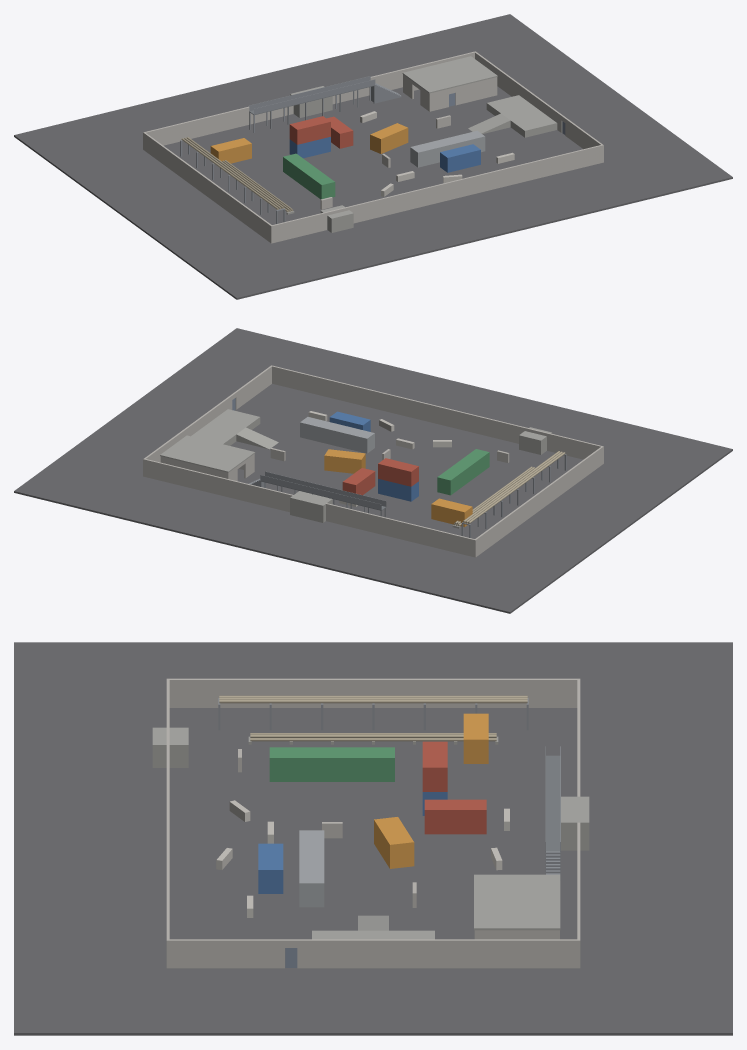
File: yard.glb
3 renders of one model, top to bottom at view 1: azimuth 30°, elevation 25°; view 2: azimuth 150°, elevation 25°; view 3: azimuth 270°, elevation 25°, orthographic. The views are drawn at different scales.
Visible parts, largest first — view 1: Ground, WallSouth_1, WallWest_0, WallNorth_0, PumpHouseRoof, Dock, ContainerB, ContainerD, WallEast_0, WallNorth_1, WallSouth_0, ContainerA2 (+12 smaller); view 2: Ground, WallSouth_1, WallNorth_0, WallNorth_1, WallWest_0, PumpHouseRoof, ContainerD, Dock, ContainerB, WallEast_0, TriggerGateNorth, ContainerA2 (+11 smaller); view 3: Ground, WallWest_0, WallEast_0, PumpHouseRoof, ContainerB, WallEast_1, ContainerF, ContainerD, ContainerC, PipeRack_pipe_0, TriggerGateNorth, Catwalk_deck (+11 smaller).
Part boxes in pixels (x1,y1,x2,y2): Ground: (14,14,732,299); WallSouth_1: (343,145,602,223); WallWest_0: (143,132,272,243); WallNorth_0: (144,105,293,145); PumpHouseRoof: (402,56,497,93); Dock: (486,95,557,137); ContainerB: (283,153,335,199); ContainerD: (410,130,485,167); WallEast_0: (474,51,562,132); WallNorth_1: (332,51,475,104); WallSouth_0: (272,210,332,242); ContainerA2: (289,116,330,144); Ground: (14,328,732,613); WallSouth_1: (272,365,530,443); WallNorth_0: (326,503,475,556); WallNorth_1: (144,459,293,512); WallWest_0: (474,446,603,557); PumpHouseRoof: (160,435,255,472); ContainerD: (300,417,374,453); Dock: (191,409,260,445); ContainerB: (437,449,489,495); WallEast_0: (143,395,232,476); TriggerGateNorth: (290,491,332,522); ContainerA2: (378,458,418,486); Ground: (14,642,732,1035); WallWest_0: (167,678,579,707); WallEast_0: (297,939,580,968); PumpHouseRoof: (474,874,560,930); ContainerB: (269,747,394,781); WallEast_1: (166,939,284,968); ContainerF: (424,799,486,834); ContainerD: (299,830,324,907); ContainerC: (374,817,414,868); PipeRack_pipe_0: (219,699,527,703); TriggerGateNorth: (561,796,589,850); Catwalk_deck: (545,755,560,851).
Size of the model in its own units: 90 by 5.48 by 70.
